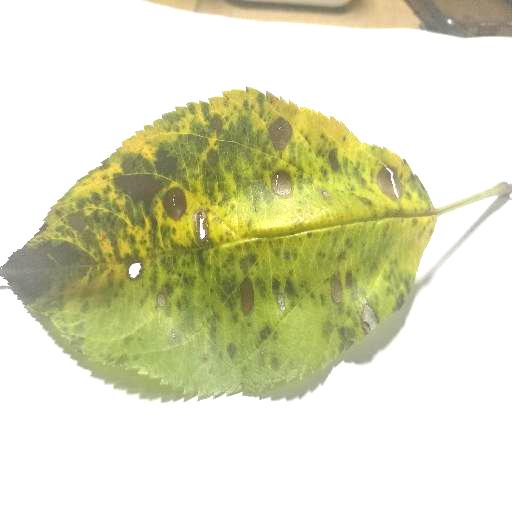Brown_Spot: (327, 271, 376, 336), (186, 211, 216, 253), (260, 168, 294, 197), (164, 186, 189, 225), (116, 257, 148, 287), (373, 170, 403, 201), (231, 277, 258, 311), (269, 117, 286, 151)
